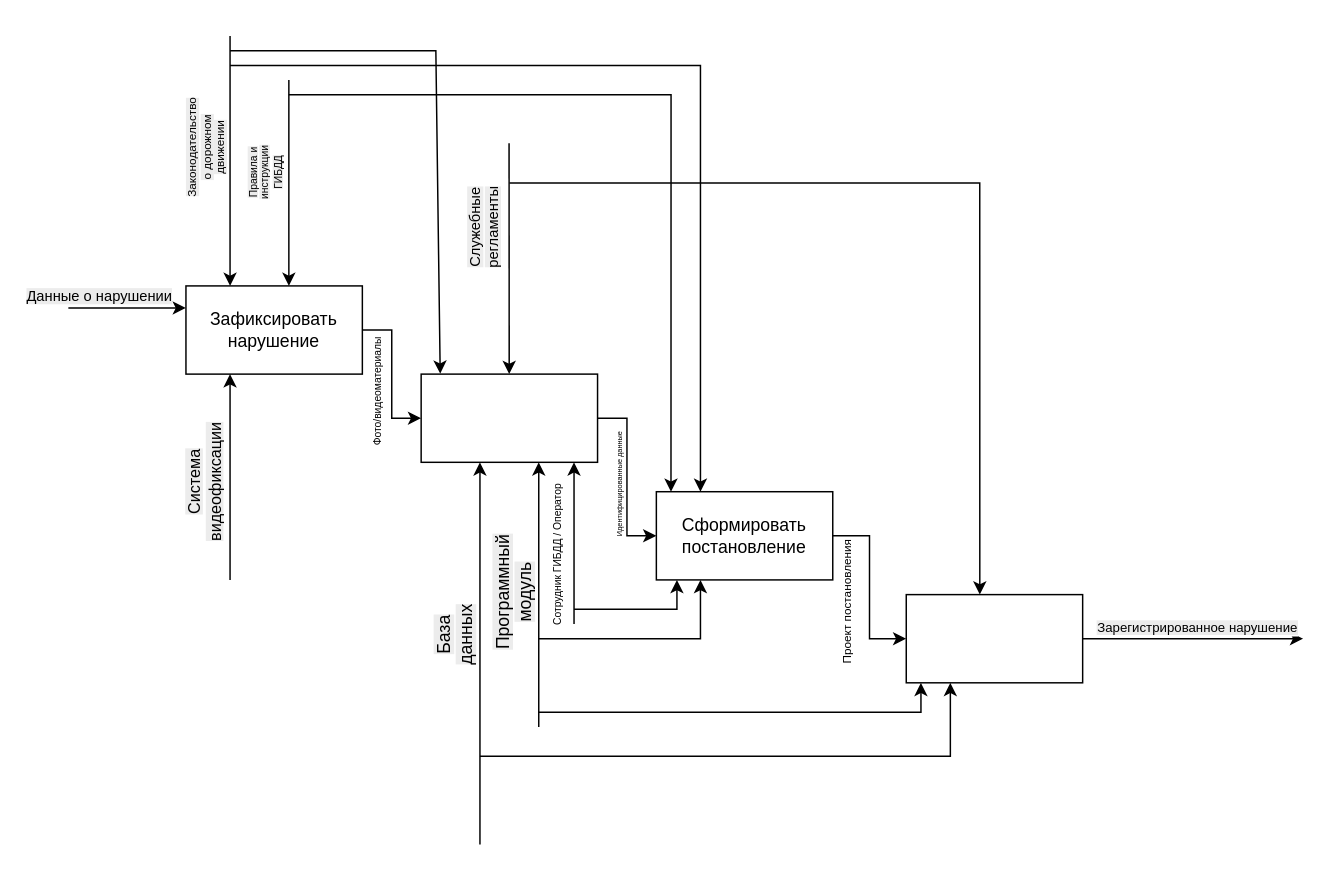
The diagram is 1341 pixels wide and 882 high, and some of its shapes have lost their labels. The box of each missing label's shape, as (x1, y1, x2, y2) in pixels:
Внести данные в систему: (905, 593, 1083, 683)
Идентифицировать нарушителя: (420, 373, 598, 462)
